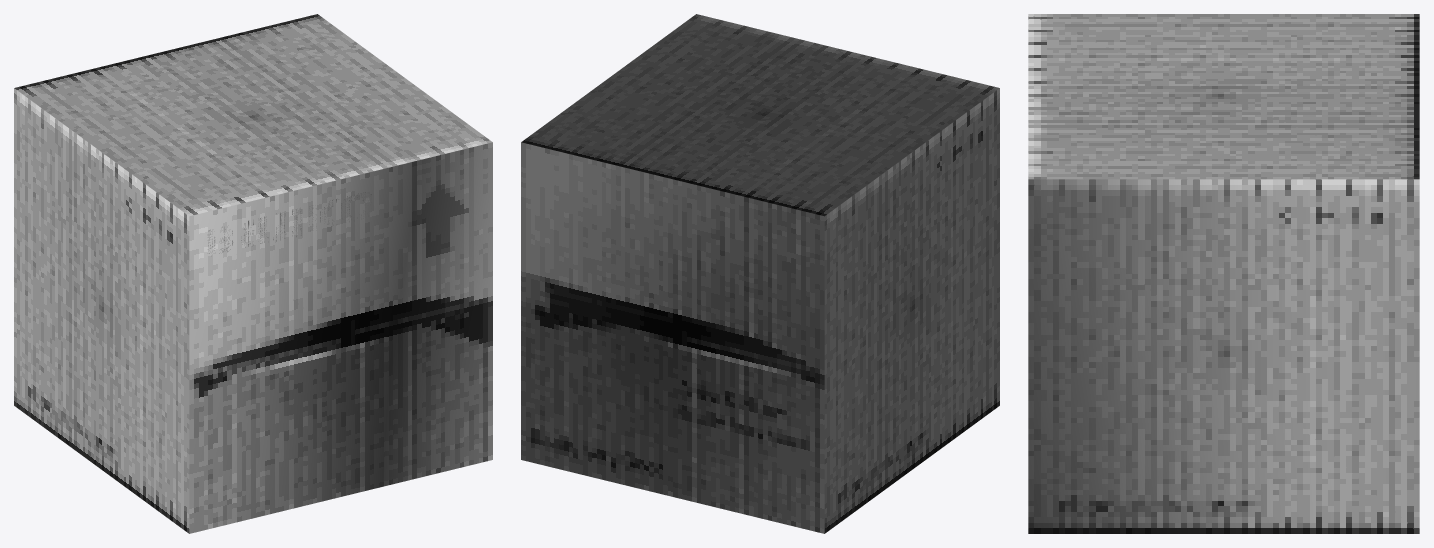
Rendered from Pcard_box6_lgZ.obj.
3 views of the same model, side by side, from view 1: azimuth 30°, elevation 25°; view 2: azimuth 150°, elevation 25°; view 3: azimuth 270°, elevation 25° (orthographic). The views are drawn at different scales.
Bounding box in the file's own units: 924 × 924 × 924.
5 materials, 5 textured.
